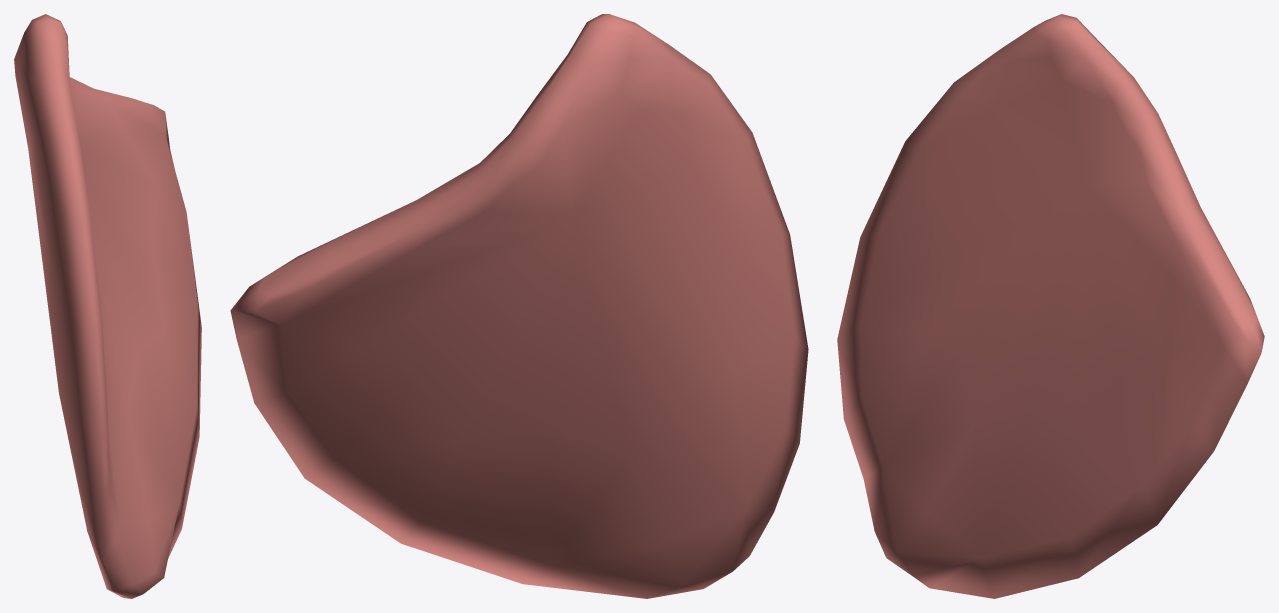
3 renders of one model, left to right at view 1: azimuth 30°, elevation 25°; view 2: azimuth 150°, elevation 25°; view 3: azimuth 270°, elevation 25°, orthographic. The views are drawn at different scales.
Parts seen in each view (by area): view 1: ZA_b5c7b8d94df1dd8e; view 2: ZA_b5c7b8d94df1dd8e; view 3: ZA_b5c7b8d94df1dd8e.
Boxes of the visible parts, x1,y1,x2,y2 form: ZA_b5c7b8d94df1dd8e: [14, 14, 201, 598]; ZA_b5c7b8d94df1dd8e: [230, 14, 808, 598]; ZA_b5c7b8d94df1dd8e: [837, 14, 1264, 598].
Size of the model in its own units: 0.0035 by 0.00644 by 0.00455.
